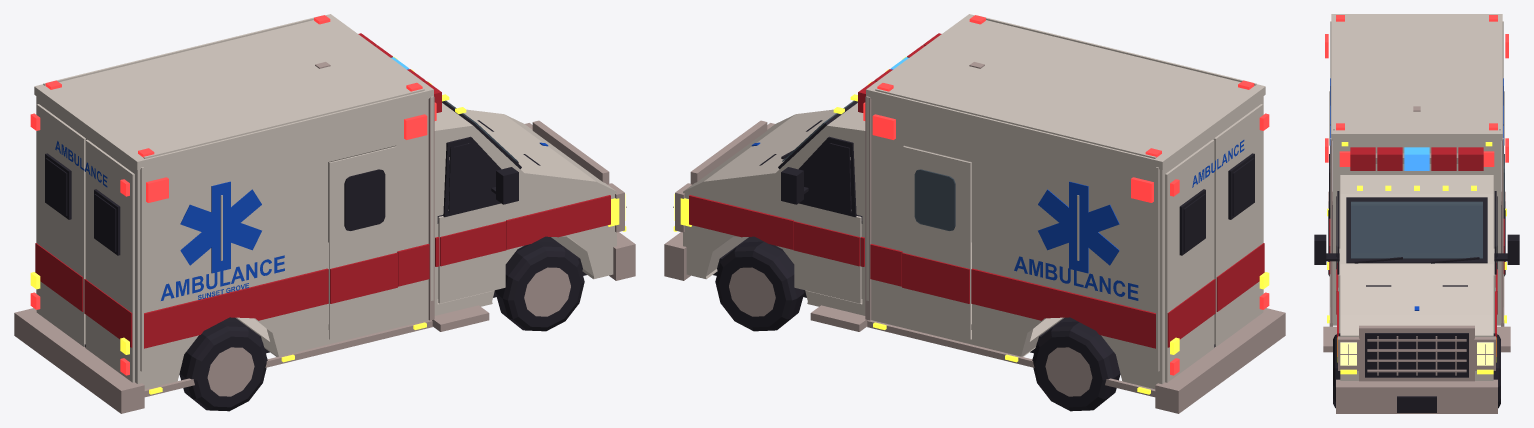
The model's file is veh.ambulance.lod1.glb.
3 renders of one model, left to right at view 1: azimuth 30°, elevation 25°; view 2: azimuth 150°, elevation 25°; view 3: azimuth 270°, elevation 25°, orthographic. The views are drawn at different scales.
Parts seen in each view (by area): view 1: body, doorL, wheelFL, wheelRL, sirenL, lightsBrake; view 2: body, doorR, wheelFR, wheelRR, sirenR, lightsBrake; view 3: body, sirenR, doorL, doorR, lightsFront, sirenL, wheelFL, wheelFR.
Part boxes in pixels (box(x1,y1,x2,y2)): body: box(14, 14, 635, 413); doorL: box(438, 136, 518, 303); wheelFL: box(495, 241, 584, 331); wheelRL: box(179, 321, 267, 411); sirenL: box(138, 82, 436, 202); lightsBrake: box(30, 113, 129, 375); body: box(664, 14, 1285, 413); doorR: box(781, 136, 861, 303); wheelFR: box(715, 241, 804, 331); wheelRR: box(1032, 321, 1120, 411); sirenR: box(863, 57, 1161, 202); lightsBrake: box(1170, 113, 1269, 375); body: box(1323, 14, 1510, 413); sirenR: box(1404, 15, 1508, 170); doorL: box(1314, 191, 1340, 333); doorR: box(1493, 191, 1519, 333); lightsFront: box(1340, 342, 1493, 365); sirenL: box(1325, 15, 1350, 166); wheelFL: box(1333, 333, 1340, 408); wheelFR: box(1493, 333, 1500, 408).
Bounding box in the file's own units: 6.64 × 3.37 × 2.74.
